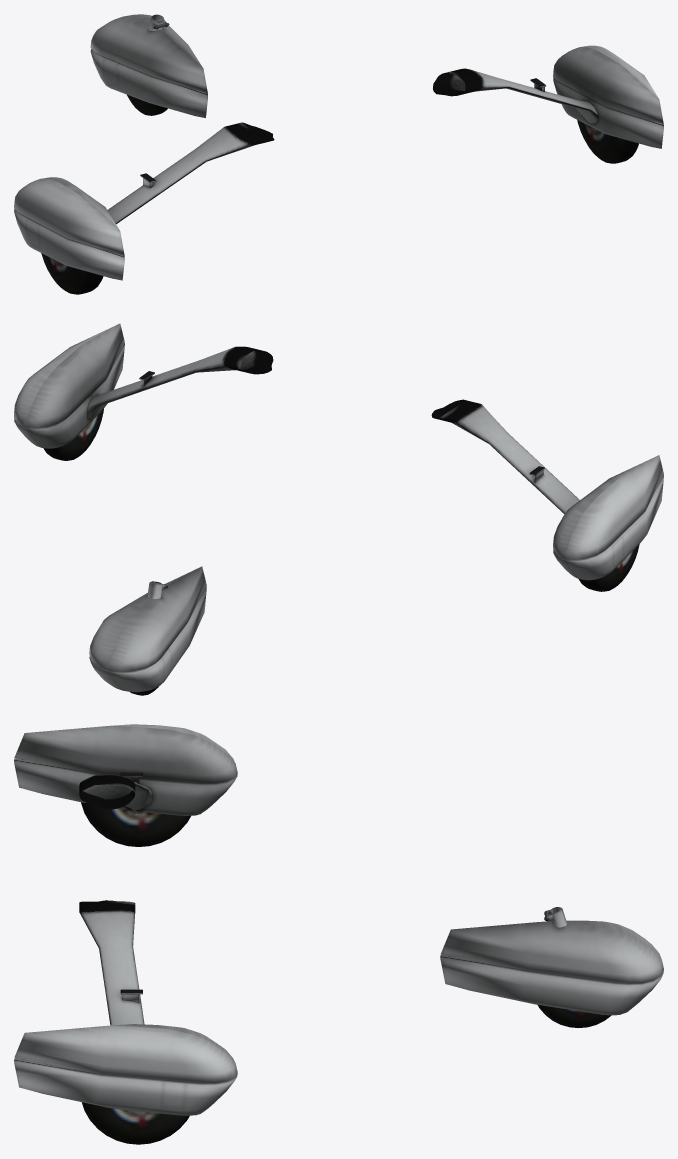
3 views of the same model, one above another, from view 1: azimuth 30°, elevation 25°; view 2: azimuth 150°, elevation 25°; view 3: azimuth 270°, elevation 25° (orthographic). The views are drawn at different scales.
Visible parts, largest first — view 1: WheelFairingNose, WheelFairing.L, WheelFairing.R, MainStrut.L, MainStrut.R, MainWheel.R, MainWheel.L; view 2: WheelFairingNose, WheelFairing.L, WheelFairing.R, MainStrut.L, MainStrut.R, MainWheel.R, MainWheel.L; view 3: WheelFairingNose, WheelFairing.R, WheelFairing.L, MainStrut.R, MainWheel.L, MainWheel.R, MainStrut.L, FrontWheel.
Part boxes in pixels (left/top/right/bottom): WheelFairingNose: left=90, top=14, right=207, bottom=117; WheelFairing.L: left=14, top=177, right=124, bottom=280; WheelFairing.R: left=553, top=45, right=663, bottom=148; MainStrut.L: left=107, top=122, right=274, bottom=224; MainStrut.R: left=433, top=68, right=598, bottom=128; MainWheel.R: left=577, top=120, right=638, bottom=163; MainWheel.L: left=41, top=250, right=105, bottom=294; WheelFairingNose: left=89, top=566, right=206, bottom=692; WheelFairing.L: left=553, top=455, right=663, bottom=580; WheelFairing.R: left=14, top=323, right=124, bottom=448; MainStrut.L: left=431, top=399, right=579, bottom=513; MainStrut.R: left=87, top=346, right=273, bottom=419; MainWheel.R: left=43, top=409, right=103, bottom=460; MainWheel.L: left=578, top=544, right=639, bottom=591; WheelFairingNose: left=440, top=920, right=663, bottom=1015; WheelFairing.R: left=14, top=1024, right=237, bottom=1115; WheelFairing.L: left=14, top=724, right=237, bottom=815; MainStrut.R: left=79, top=900, right=144, bottom=1025; MainWheel.L: left=81, top=802, right=190, bottom=846; MainWheel.R: left=82, top=1102, right=189, bottom=1144; MainStrut.L: left=79, top=772, right=152, bottom=812; FrontWheel: left=537, top=1004, right=611, bottom=1027.
Bounding box in the file's own units: 2.87 × 0.7499 × 2.41.
Materials: 1 (1 with a texture image).
